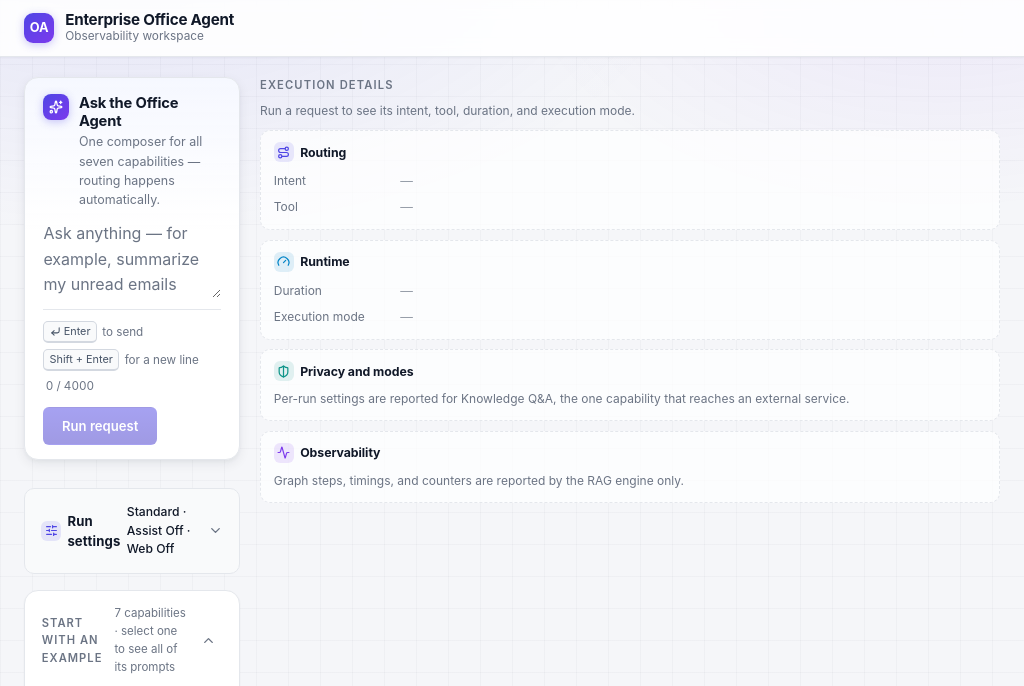
Test case: run settings controls › starts collapsed on mobile while retaining the same settings and disclosure
Check: the text "Standard · Assist Off · Web Off" is shown, box [127,503,202,559]
Click the button "Run settings Standard · Assist Off · Web Off": {"x": 132, "y": 531} [41,503,223,559]
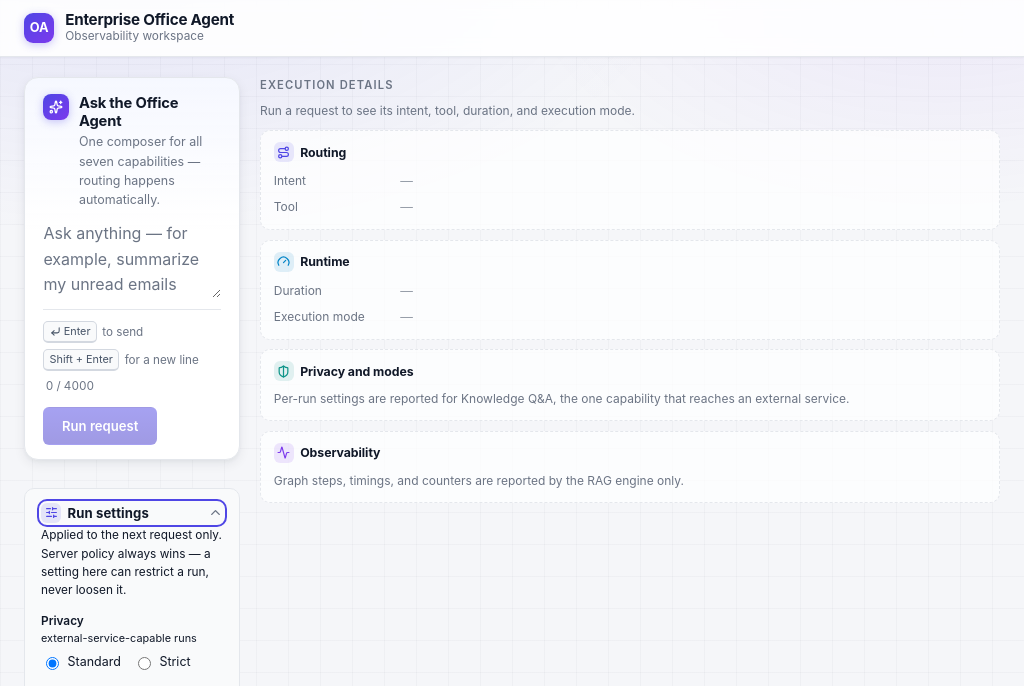
Check: the radio button labelled "Standard" is checked, box [46,657,59,670]
